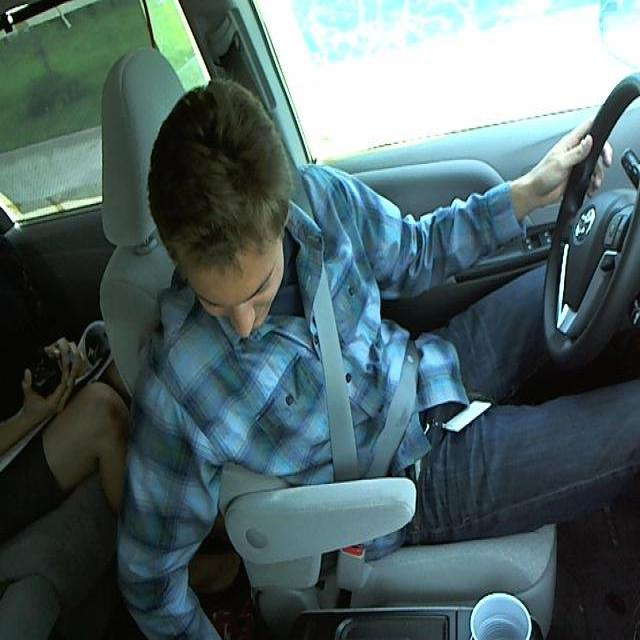seatbelt: (294, 199, 429, 476)
